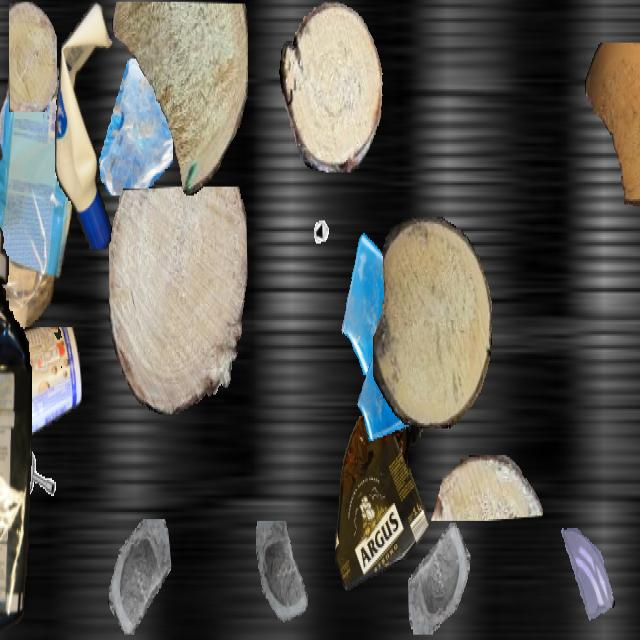glass: (339, 220, 431, 384), (96, 58, 172, 194), (251, 521, 317, 638), (107, 519, 171, 633), (357, 338, 421, 452), (408, 523, 470, 633), (558, 524, 616, 628)
metal: (14, 448, 62, 533), (311, 190, 349, 258)
plastic: (0, 62, 72, 372), (335, 398, 429, 590), (55, 2, 119, 247), (0, 226, 32, 638), (0, 327, 82, 452)
wood: (109, 187, 247, 414), (112, 2, 248, 194), (373, 217, 491, 427), (279, 2, 383, 172), (585, 43, 640, 206), (429, 455, 543, 519), (9, 2, 57, 112)
